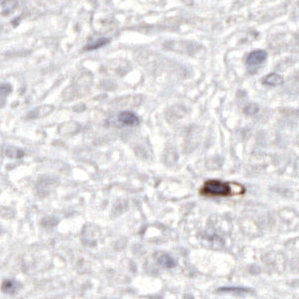Lymphocyte: (200, 177, 237, 197)
